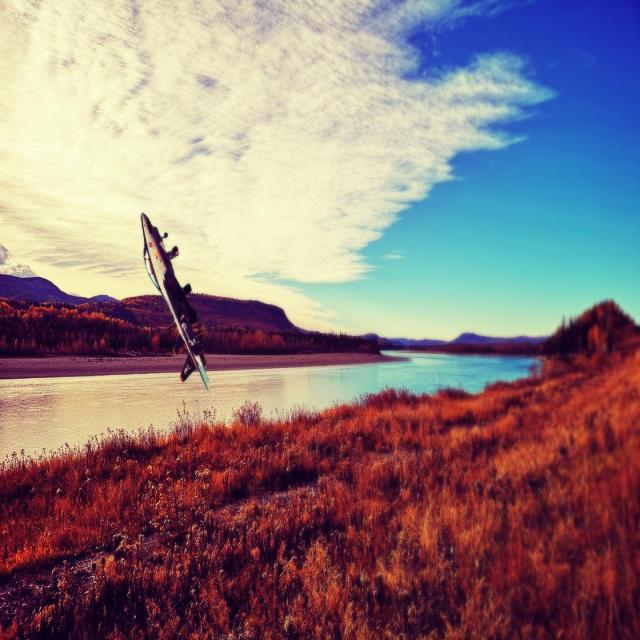airplane: (140, 212, 210, 390)
